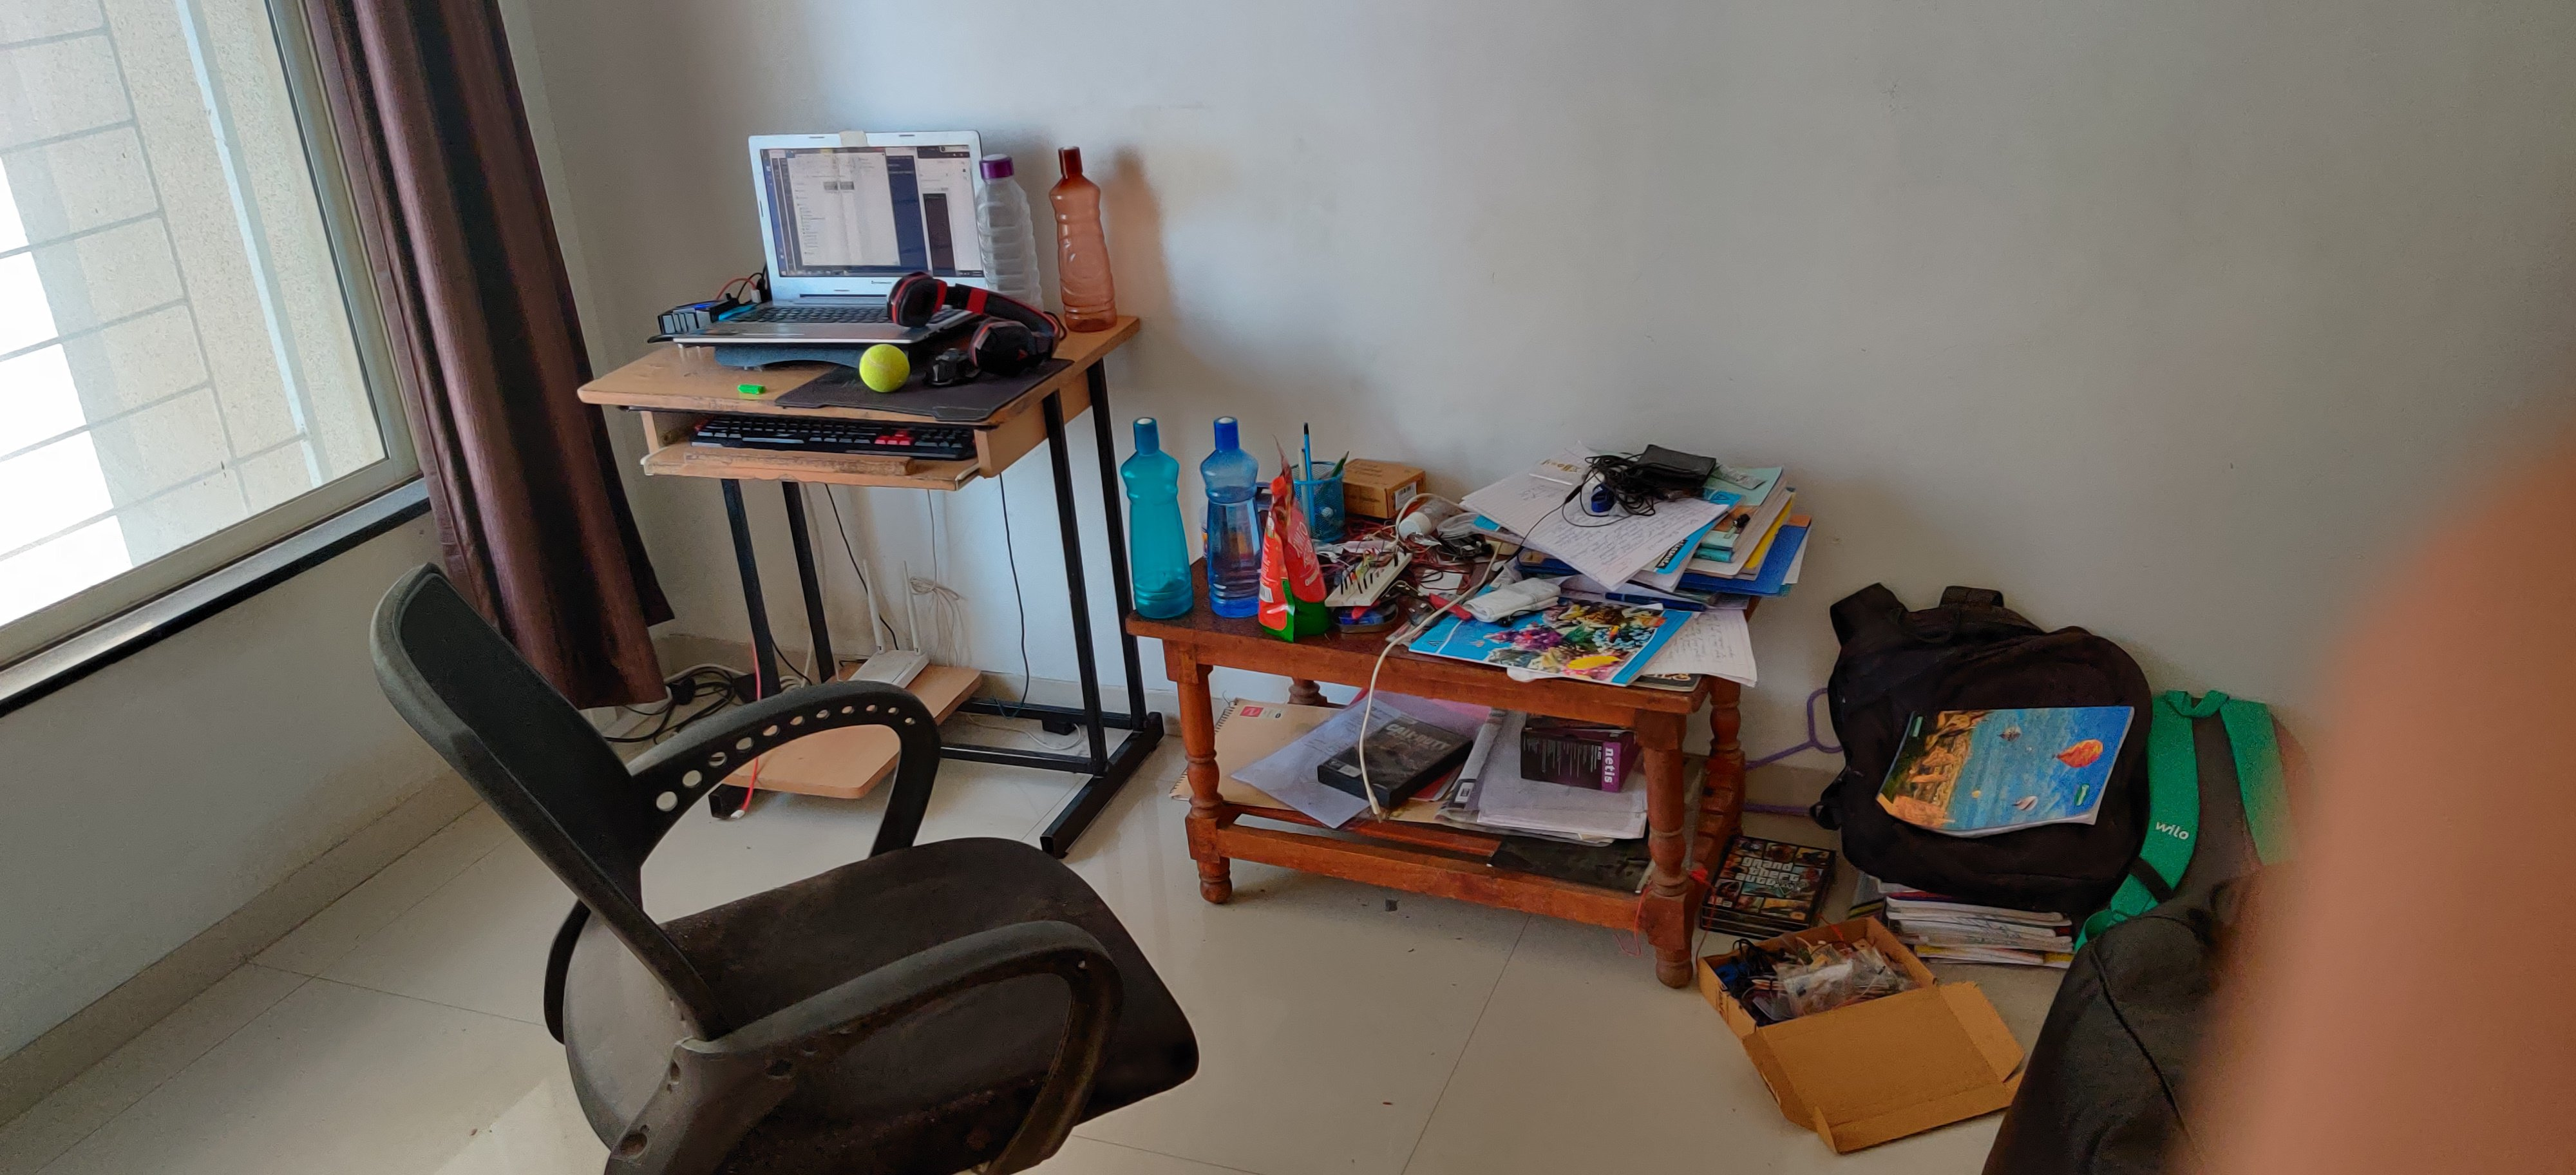Tennis-Ball: (859, 343, 910, 393)
